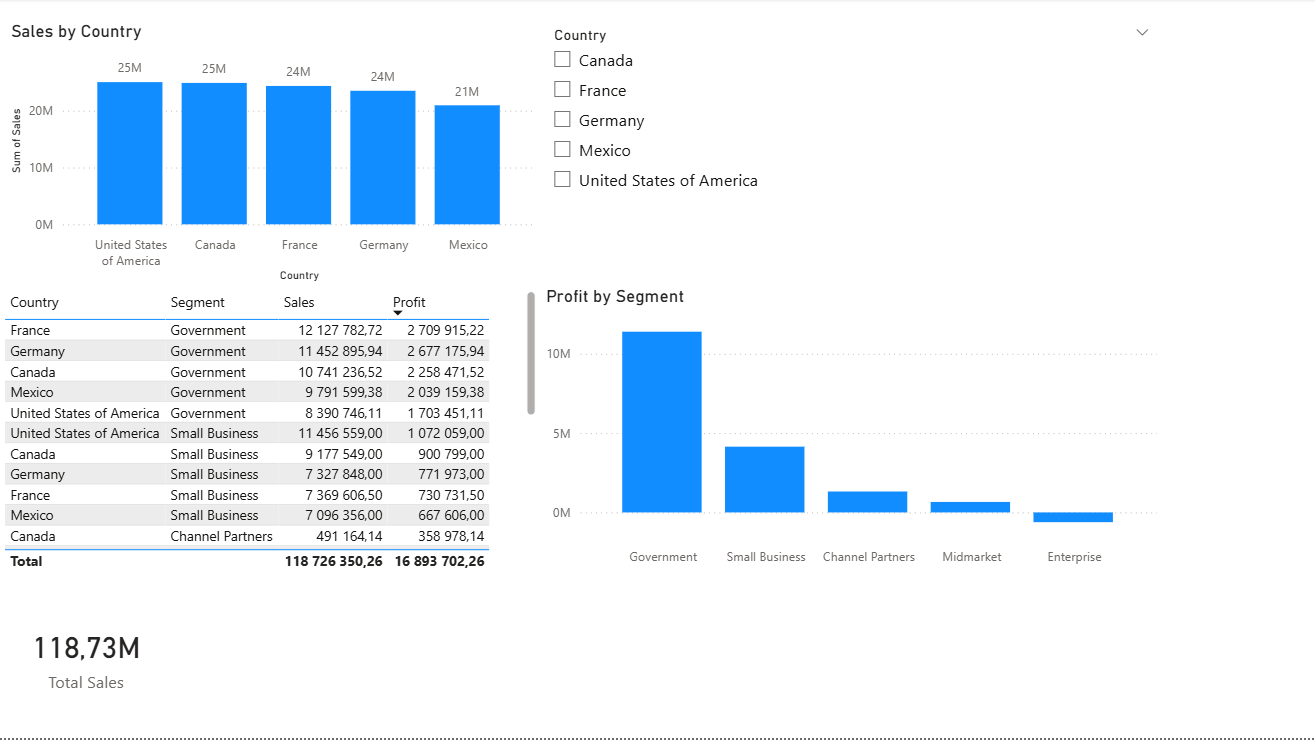

Layout of this report page (visuals, bound fields, positions):
{"tool":"powerbi","page":{"name":"Page 1","canvas":[1280,720],"ordinal":0},"visuals":[{"type":"clusteredColumnChart","title":"Sales by Country","fields":{"Category":["financials.Country"],"Y":["Sum(financials. Sales)"]},"box":[6.8,22.4,520.4,257.8],"z":0},{"type":"tableEx","fields":{"Values":["financials.Country","financials.Segment","Sum(financials. Sales)","Sum(financials.Profit)"]},"box":[0,280.1,527.2,281.1],"z":1000},{"type":"card","title":"Total Sales","fields":{"Values":["Sum(financials. Sales)"]},"box":[0,561.2,169.2,158.5],"z":2000},{"type":"slicer","fields":{"Values":["financials.Country"]},"box":[527.2,22.4,604,257.8],"z":3000},{"type":"clusteredColumnChart","title":"Profit by Segment","fields":{"Category":["financials.Segment"],"Y":["Sum(financials.Profit)"]},"box":[527.2,280.1,604,281.1],"z":3001}]}

Visuals, with their boxes in screenshot pixels (x1, y1, x2, y2), scaled from the page's 1280x720 canvas onto the 1315x740 screenshot:
"Sales by Country" clusteredColumnChart: 7:23:542:288
tableEx - financials.Country x financials.Segment: 0:288:542:577
"Total Sales" card: 0:577:174:739
slicer - financials.Country: 542:23:1162:288
"Profit by Segment" clusteredColumnChart: 542:288:1162:577
